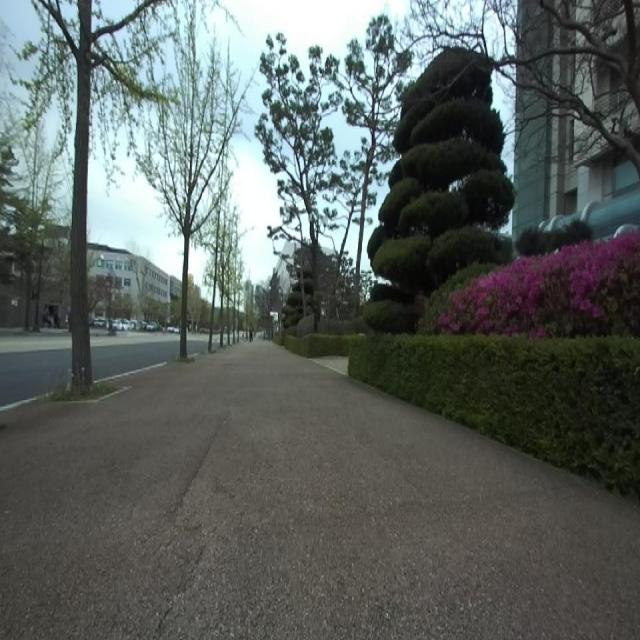sidewalk: (0, 342, 640, 639)
